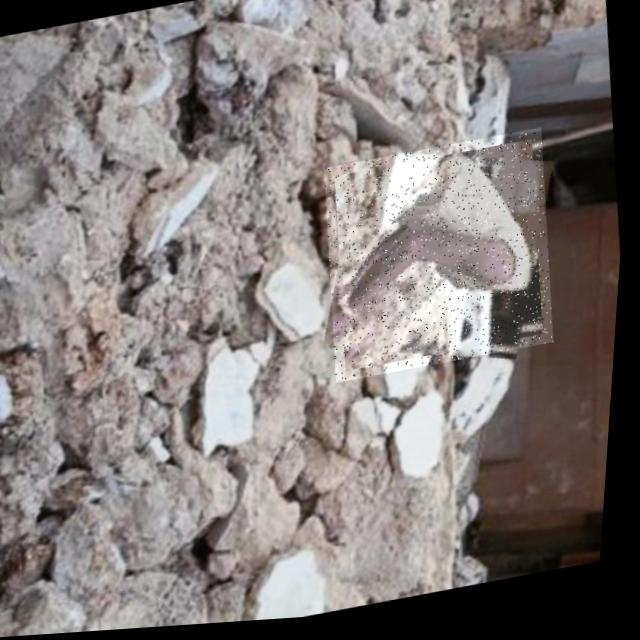Person in Rubble: (314, 133, 569, 389)
